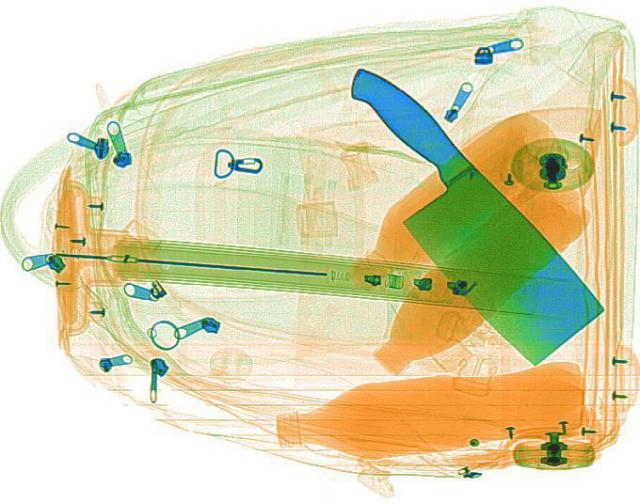Knife: (278, 56, 628, 371)
